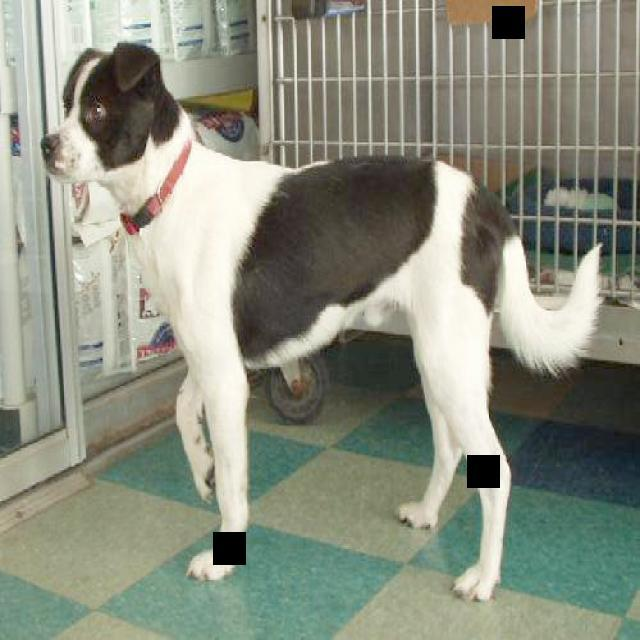adult_dog: (37, 45, 604, 606)
